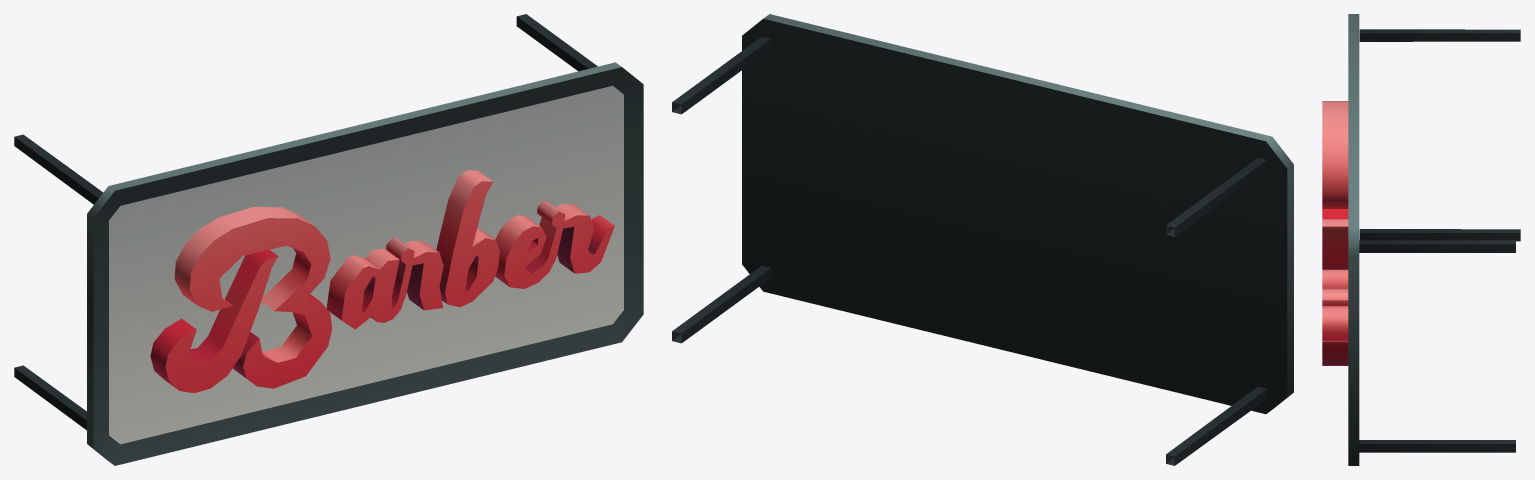
File: Barber_Text_1A.fbx
3 renders of one model, left to right at view 1: azimuth 30°, elevation 25°; view 2: azimuth 150°, elevation 25°; view 3: azimuth 270°, elevation 25°, orthographic. The views are drawn at different scales.
Parts seen in each view (by area): view 1: Barber_Text_1A; view 2: Barber_Text_1A; view 3: Barber_Text_1A.
Part boxes in pixels (bbox=[...]): Barber_Text_1A: bbox=[14, 14, 643, 465]; Barber_Text_1A: bbox=[672, 14, 1293, 465]; Barber_Text_1A: bbox=[1322, 14, 1520, 465].
Size of the model in its own units: 557 by 266 by 201.
